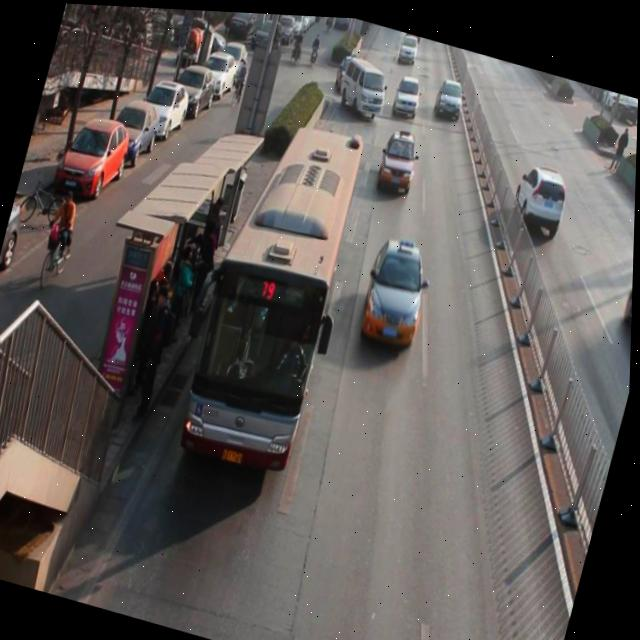car: (360, 232, 439, 345), (510, 157, 573, 233), (373, 126, 427, 196), (432, 70, 471, 121), (390, 68, 426, 119), (333, 45, 363, 96), (621, 258, 635, 338), (396, 27, 423, 63), (402, 27, 418, 37)
truck: (336, 53, 392, 121)
van: (177, 106, 371, 478)
